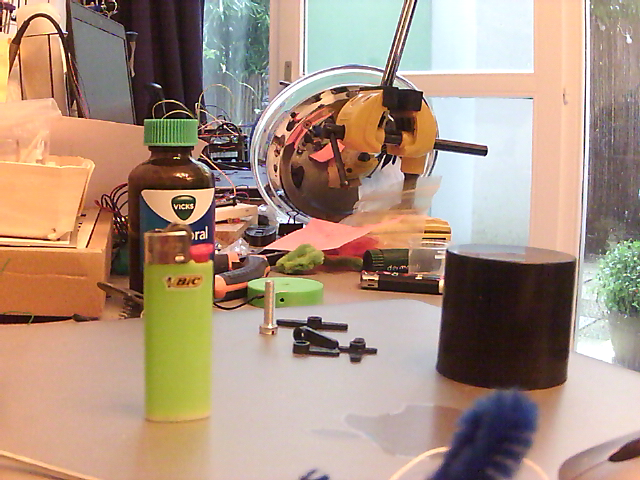bolt: (257, 279, 280, 335)
lighter: (143, 224, 216, 424)
